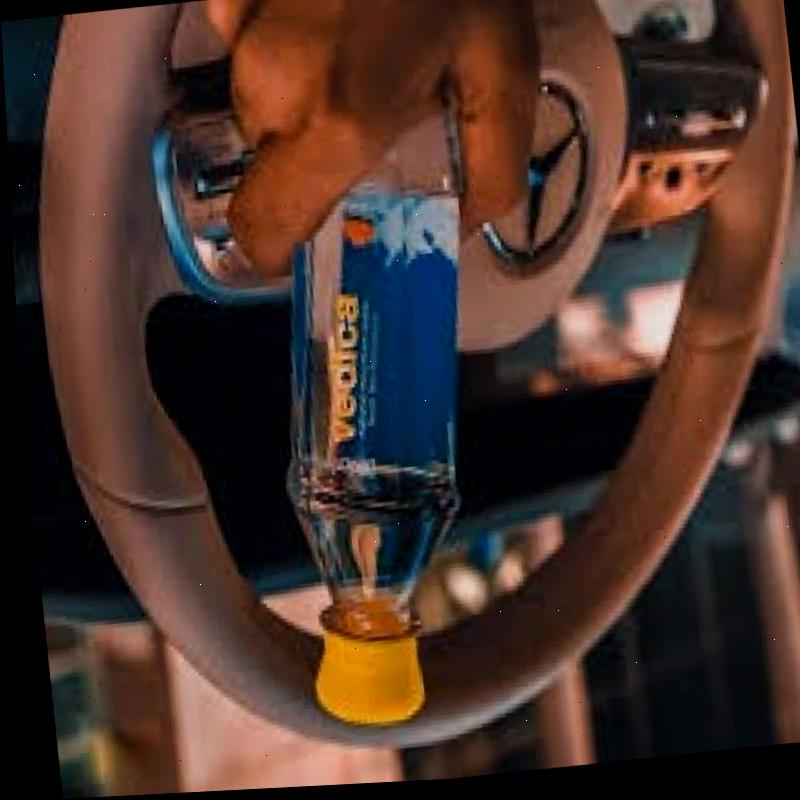botella: (243, 92, 516, 731)
